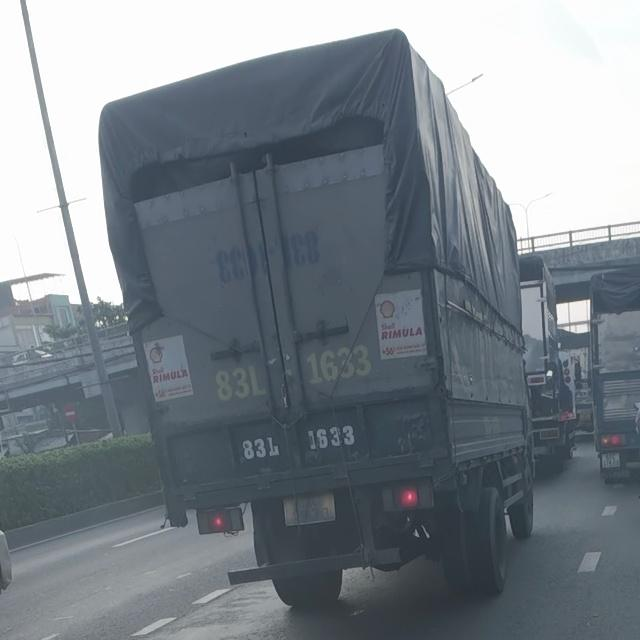license-plate: (282, 491, 336, 527), (600, 451, 621, 469)
